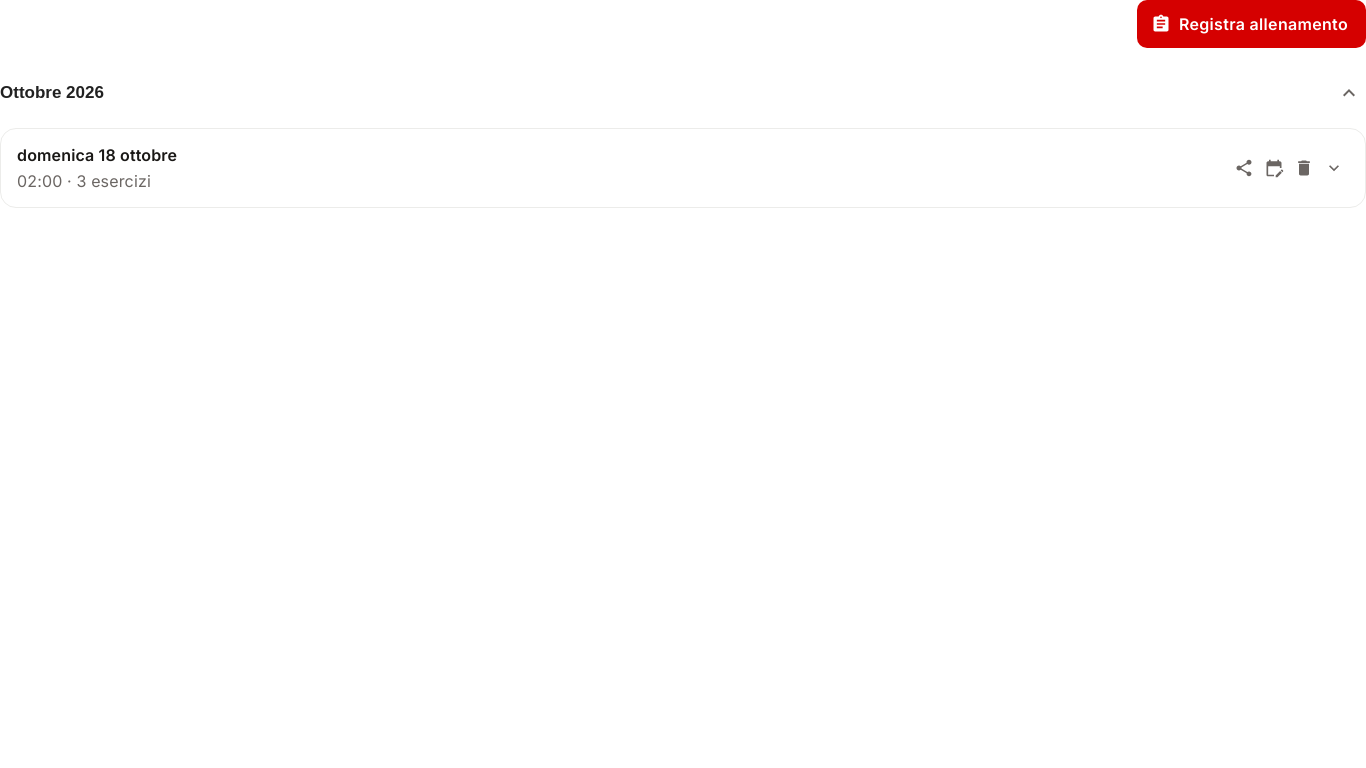
Scenario: eliminazione con «Annulla» › dopo la conferma la riga sparisce subito, compare «Allenamento eliminato» con «Annulla» e il server non è ancora chiamato
The width and height of the screenshot is (1366, 768).
Expected: the text "02:00 · 3 esercizi" is shown, [17,169,151,193]
Step 1. Click the button named "Elimina allenamento" → [1304, 168], box [1289,153,1319,183]
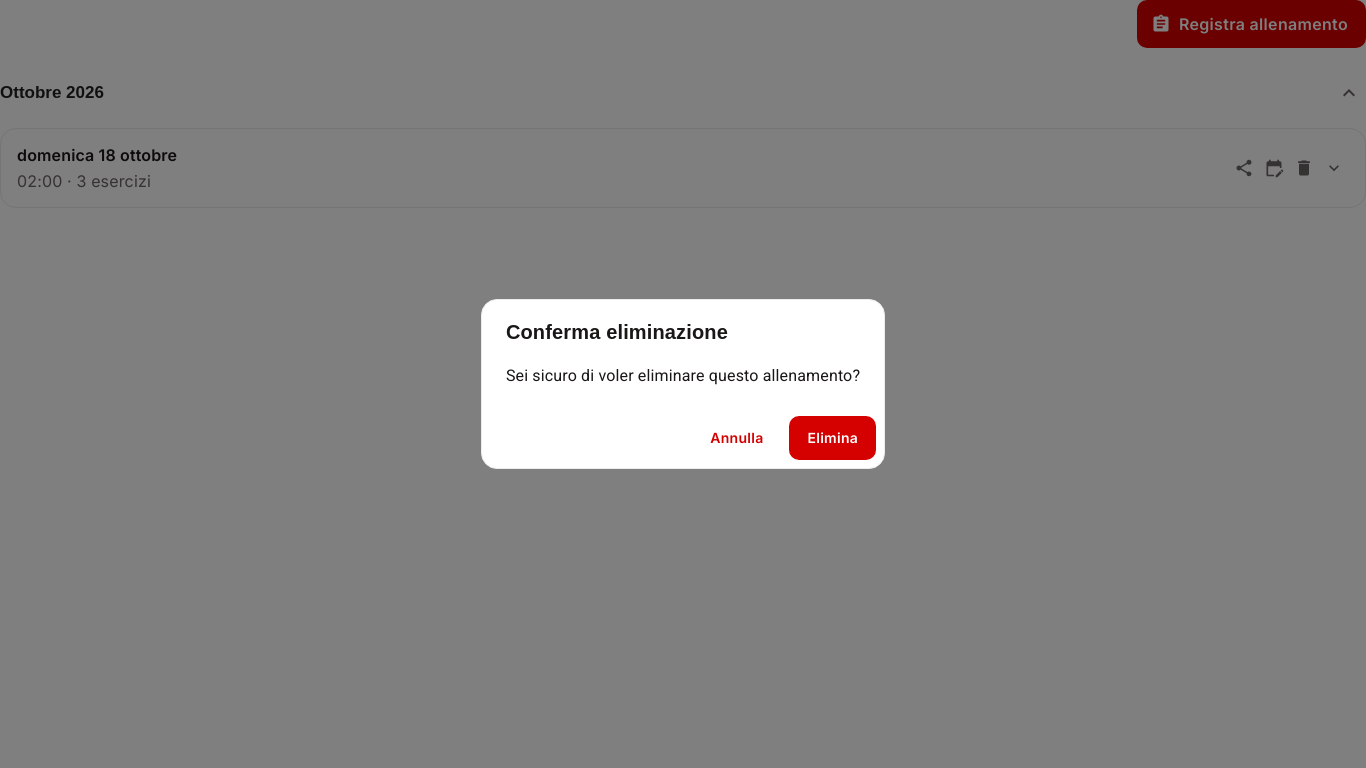
Expected: the heading "Conferma eliminazione" is shown, [506,321,728,343]
Step 2. Click the button "Elimina" → [833, 438], box [790,416,876,460]
Wait 9999 ms
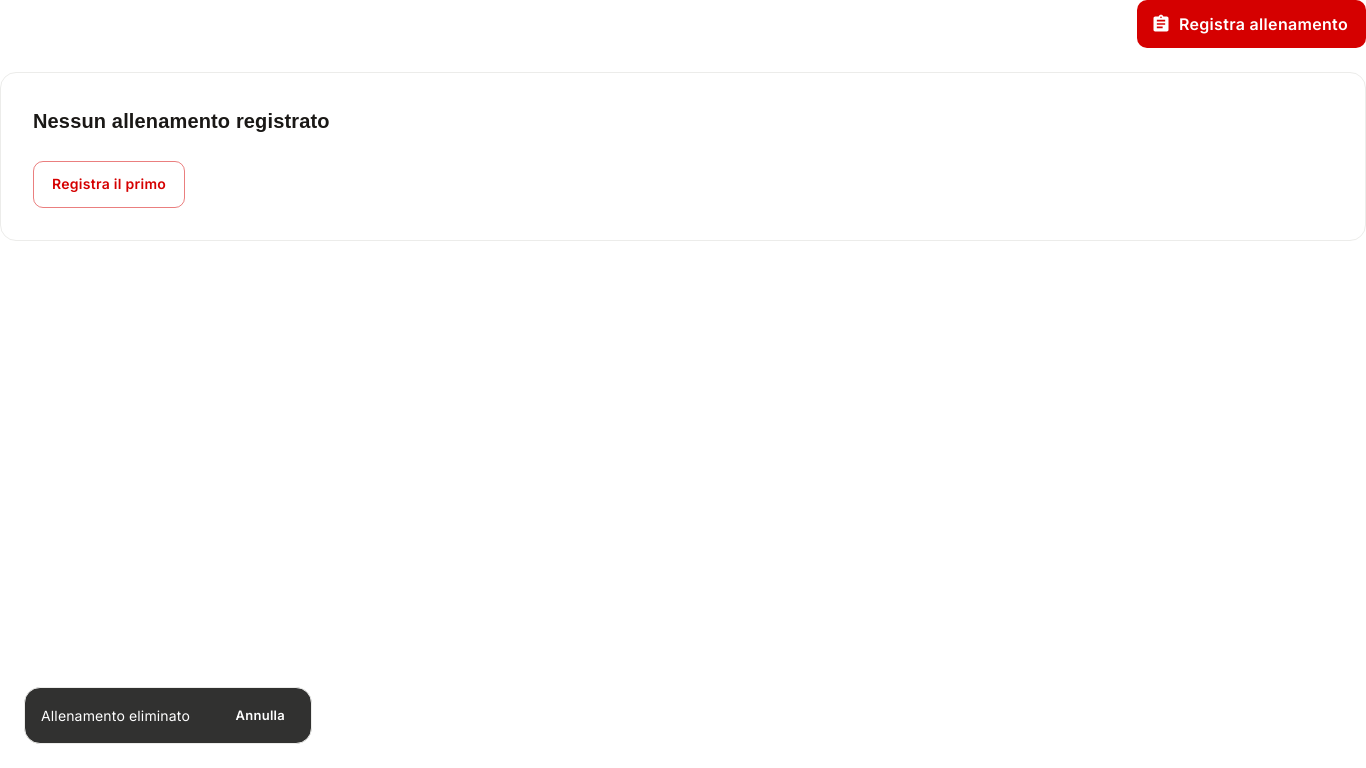
Expected: the button "Annulla" is shown, [218,694,303,737]
Expected: the button "02:00 · 3 esercizi" is gone
Expected: the text "Allenamento eliminato" is shown, [41,707,190,724]
